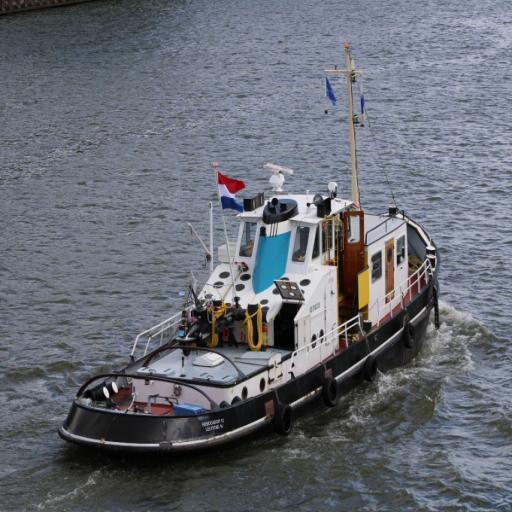tugboat: (51, 41, 447, 476)
